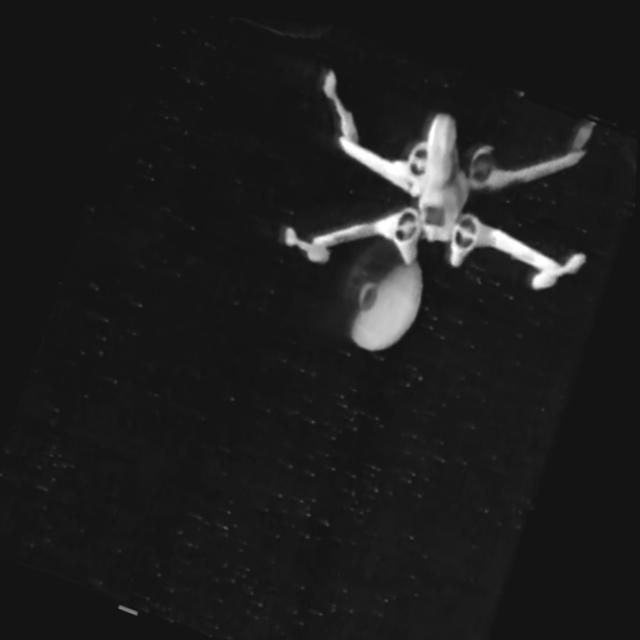death-stars: (339, 230, 425, 345)
